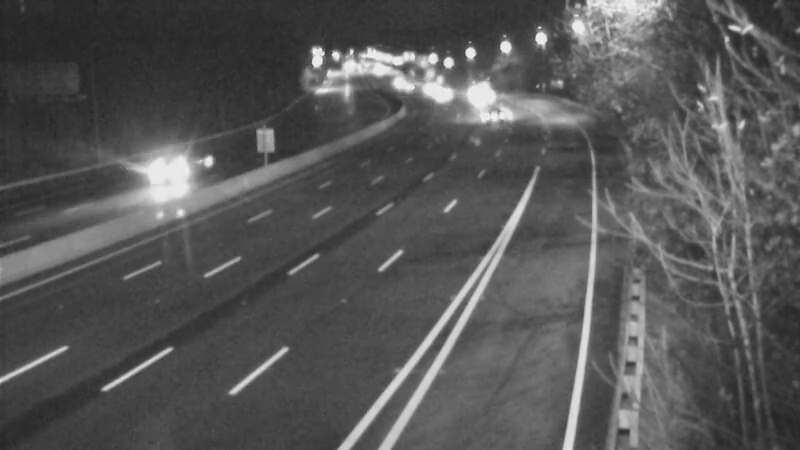vehicle: (131, 132, 211, 212), (403, 64, 453, 114), (466, 71, 516, 121), (419, 71, 469, 121), (463, 93, 513, 143)
